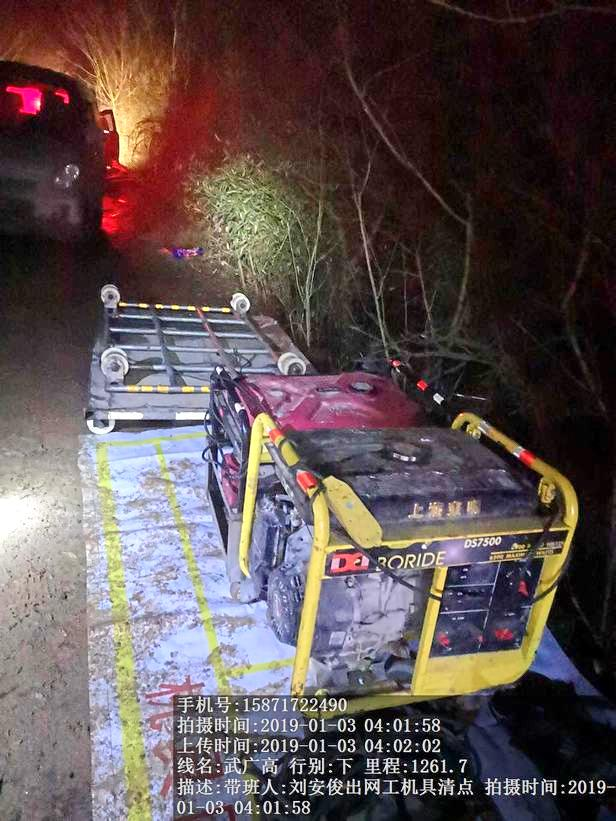DJ: (231, 408, 563, 683)
